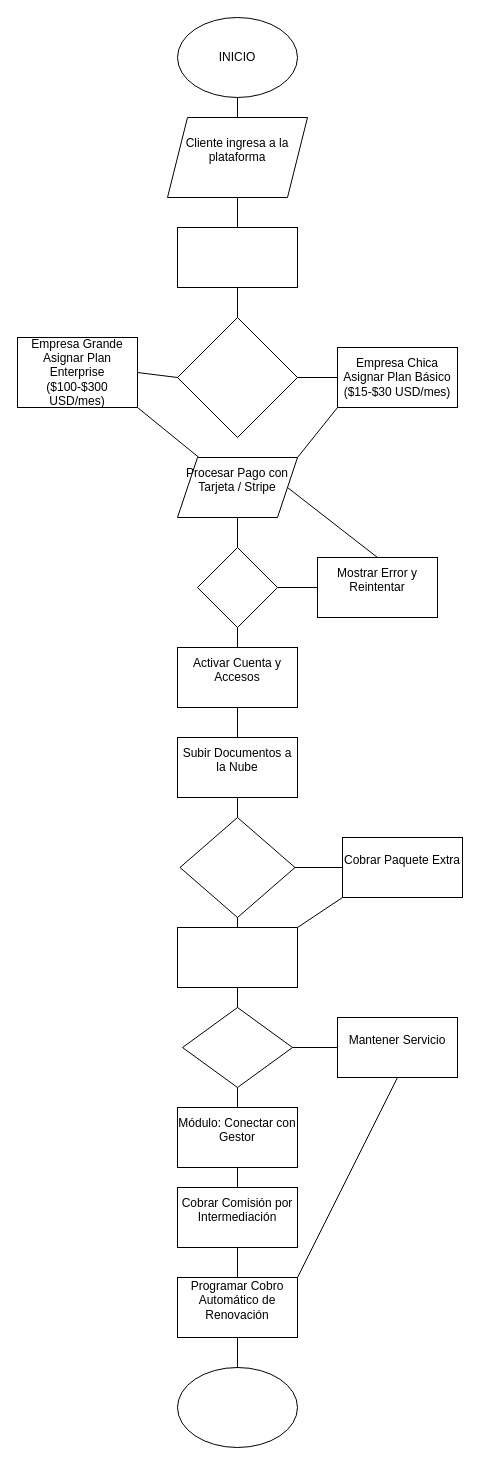
This 480x1465 diagram has some shape labels left out. Each missing label, with the box of its shape:
Continuar Uso Normal: (176, 926, 298, 988)
FIN: (176, 1366, 298, 1448)
Seleccionar Plan de Suscripción: (176, 226, 298, 288)
¿Necesita Asesoría Legal/Gestor?: (182, 1006, 292, 1088)
¿Pago Aprobado?: (196, 546, 278, 628)
¿Qué tipo de cliente es?: (176, 316, 298, 438)
¿Superó el límite de escaneos?: (179, 816, 295, 918)
